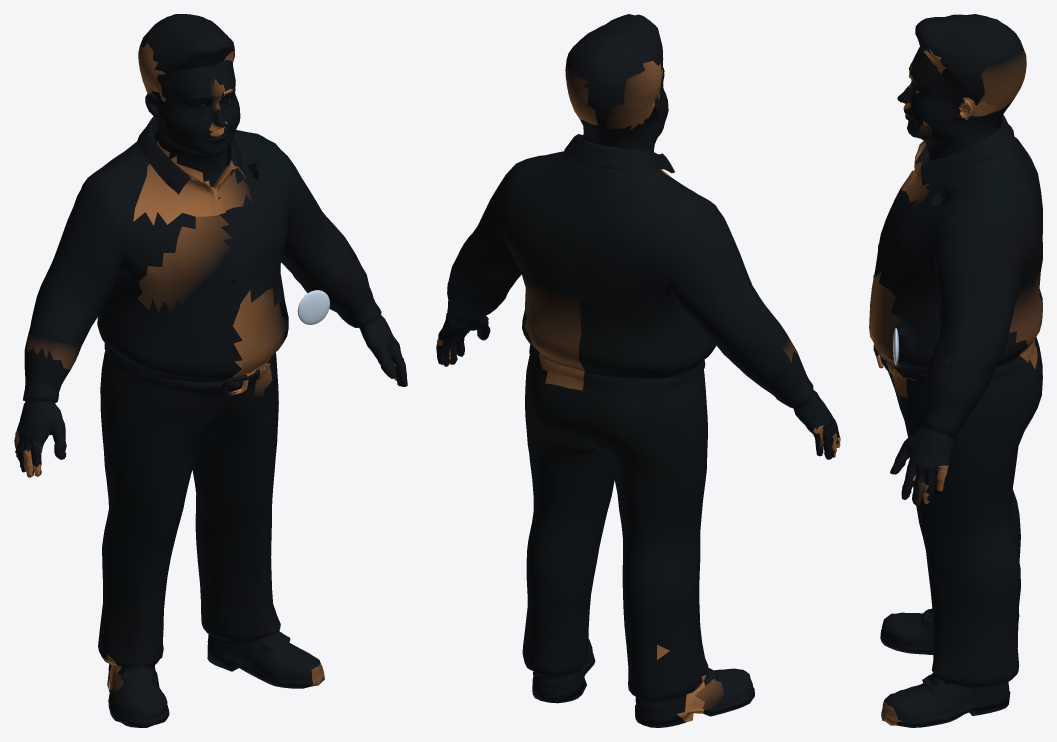
Rendered from AbdullahEkinci_MeshyPro_Unrigged.fbx.
3 views of the same model, side by side, from view 1: azimuth 30°, elevation 25°; view 2: azimuth 150°, elevation 25°; view 3: azimuth 270°, elevation 25° (orthographic). The views are drawn at different scales.
Parts seen in each view (by area): view 1: AbdullahEkinci; view 2: AbdullahEkinci; view 3: AbdullahEkinci.
Part boxes in pixels (x1,y1,x2,y2): AbdullahEkinci: [14, 14, 407, 727]; AbdullahEkinci: [436, 14, 840, 727]; AbdullahEkinci: [869, 14, 1042, 727].
Size of the model in its own units: 1.1 by 1.8 by 0.4316.
Materials: 2 (1 with a texture image).
